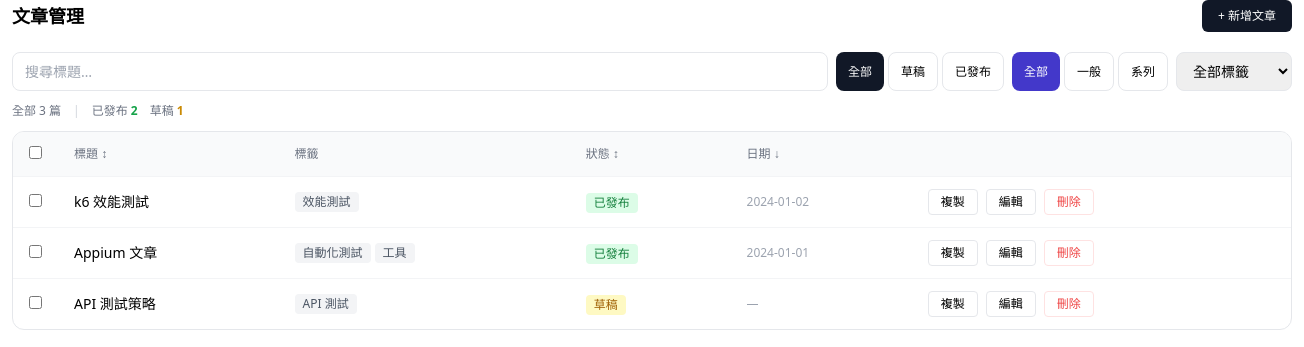
Scenario: AdminPosts — search and filter › filters posts by published status
Expected: the text "API 測試策略" is shown, 58,278 -> 278,329
Click the 1st button "已發布": click(973, 72) 942,52 -> 1004,91
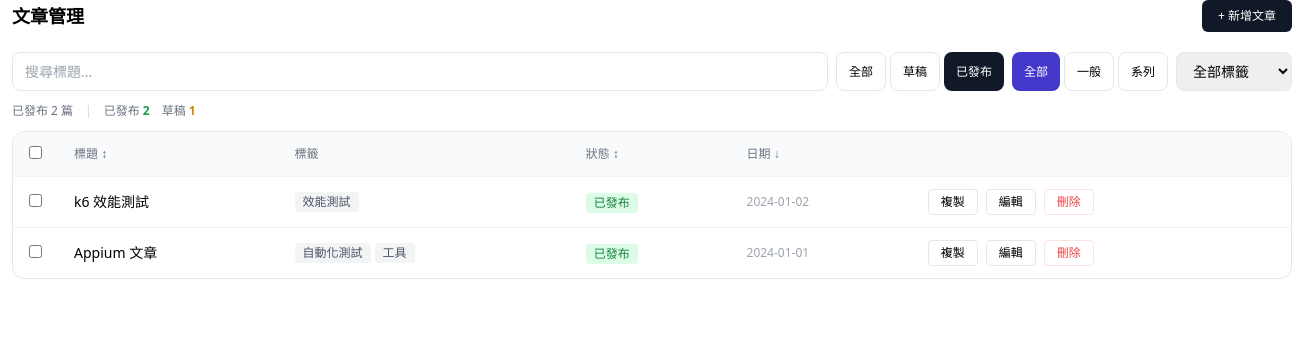
Expected: the text "Appium 文章" is shown, 58,228 -> 278,278
Expected: the text "API 測試策略" is gone
